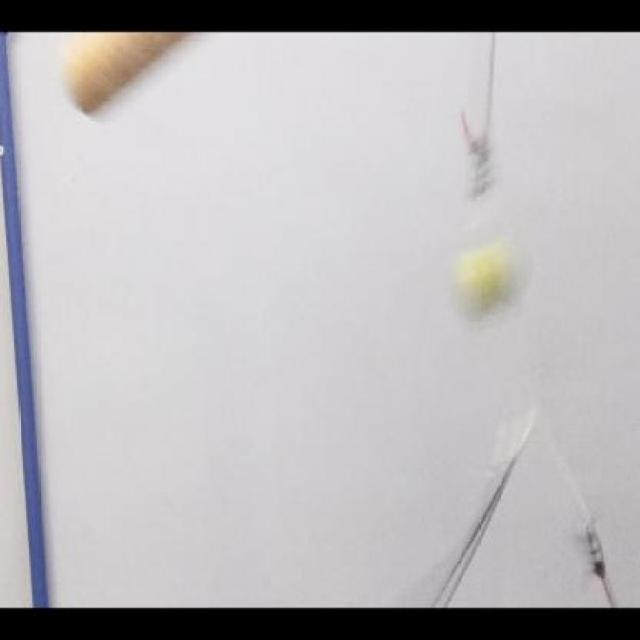baseball: (447, 230, 535, 322)
